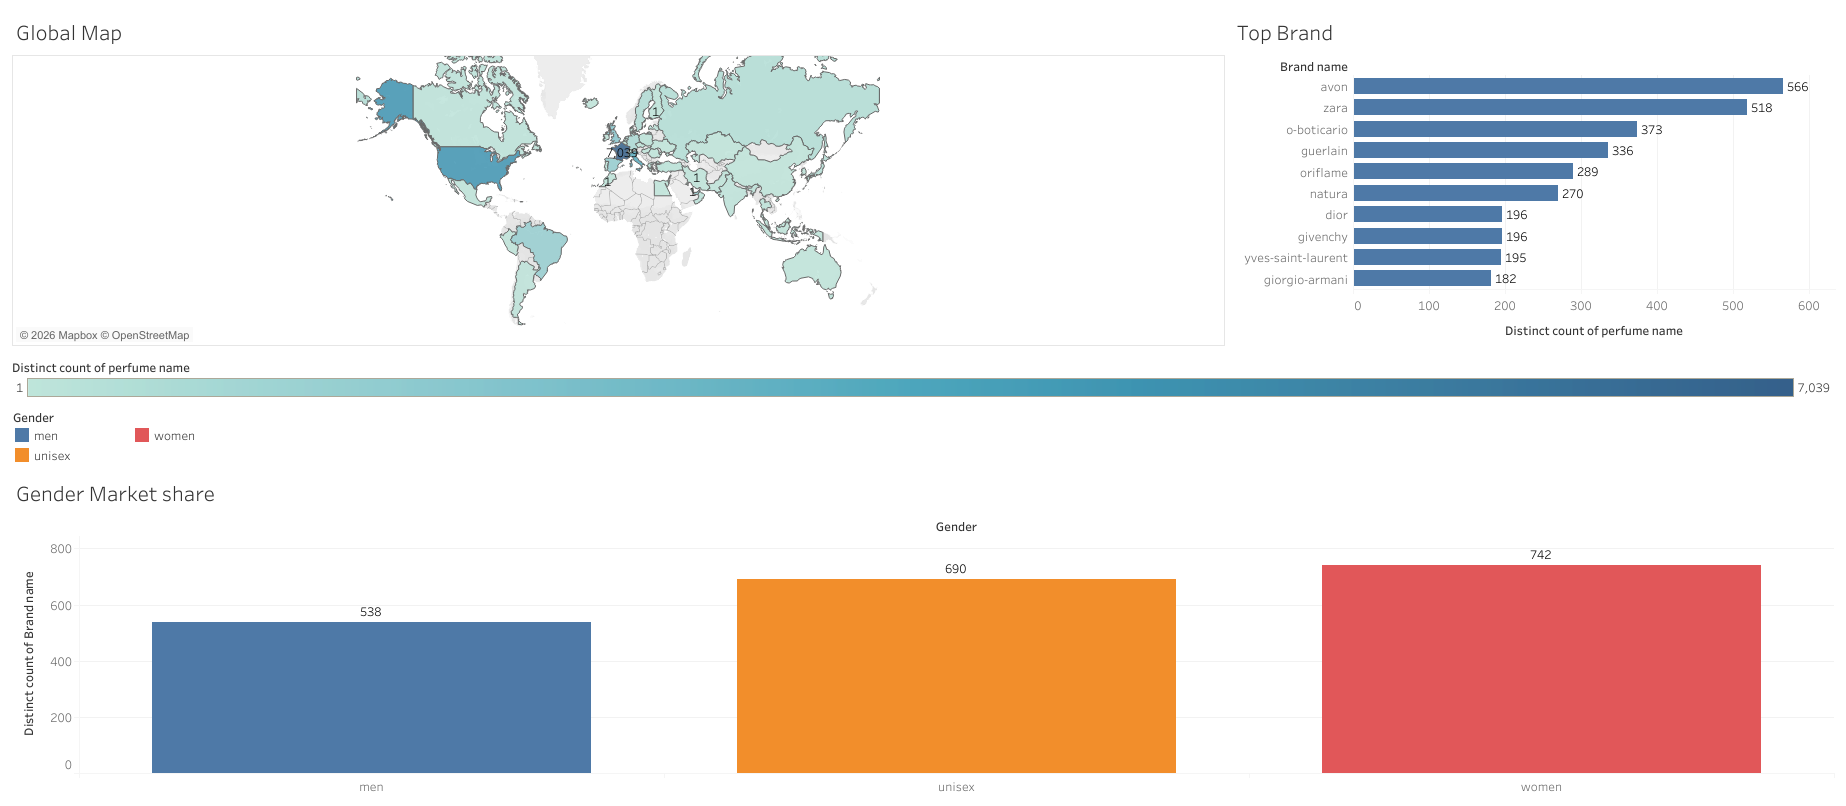

This screenshot's page, from the dashboard's own definition file:
{"tool":"tableau","page":{"name":"Dashboard","canvas":[1000,1000],"units":"permille","ordinal":0},"visuals":[{"type":"worksheet","title":"Global Map","mark":"Multipolygon","box":[4.7,8.9,660.4,424.1]},{"type":"worksheet","title":"Top Brand","mark":"Automatic","box":[665.1,8.9,330.2,424.1]},{"type":"legend","title":"Global Map","param":"[federated.1k919xj0o40jpe14ktt8i1vqrp58].[ctd:url;Perfume;Brand;Country;Gender;R","box":[4.7,433,990.6,65]},{"type":"legend","title":"Gender Market share","param":"[federated.1k919xj0o40jpe14ktt8i1vqrp58].[none:url;Perfume;Brand;Country;Gender;","box":[4.7,498.1,990.6,83.7]},{"type":"worksheet","title":"Gender Market share","mark":"Automatic","box":[4.7,581.8,990.6,409.3]}]}

Visuals, with their boxes on the dashboard's canvas, which has no fixed pixel size, in thousandths of its width and height (x1, y1, x2, y2). These are canvas units, not pixel positions in the 1846x806 screenshot, which may show the page scaled, cropped or inside an application window:
"Global Map" worksheet (Multipolygon marks): BBox(5, 9, 665, 433)
"Top Brand" worksheet: BBox(665, 9, 995, 433)
"Global Map" legend: BBox(5, 433, 995, 498)
"Gender Market share" legend: BBox(5, 498, 995, 582)
"Gender Market share" worksheet: BBox(5, 582, 995, 991)
